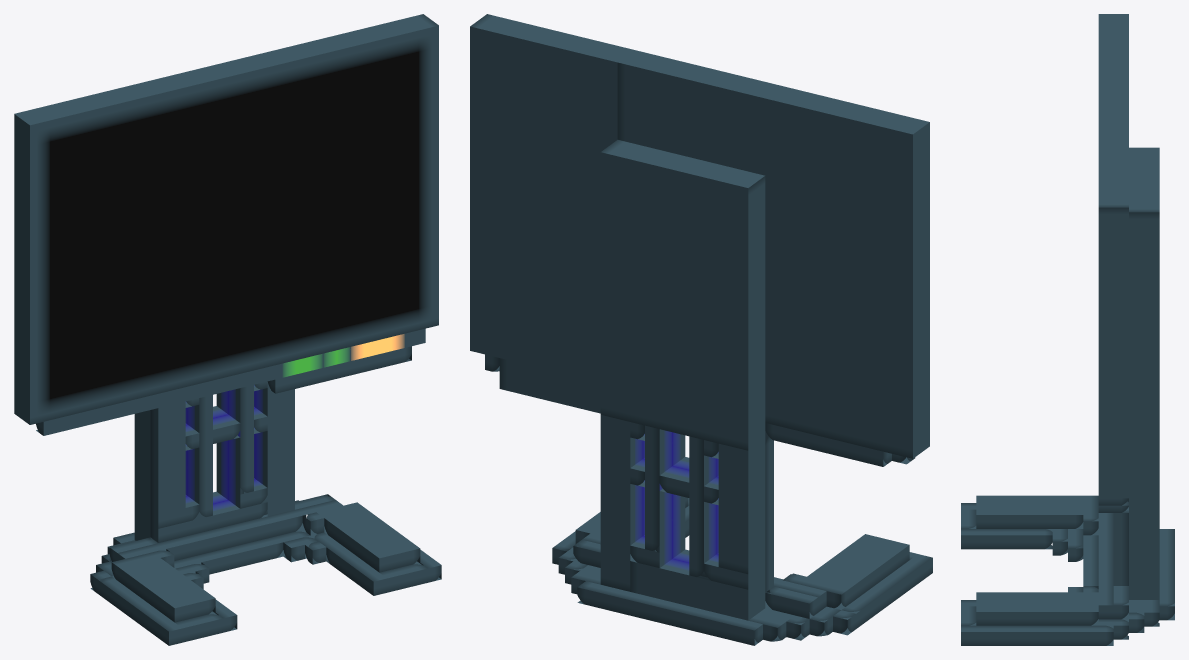
The model's file is MONITOR.dae.
The picture shows the model from 3 angles, left to right: view 1: azimuth 30°, elevation 25°; view 2: azimuth 150°, elevation 25°; view 3: azimuth 270°, elevation 25°; orthographic projection. The views are drawn at different scales.
Visible parts, largest first — view 1: Content; view 2: Content; view 3: Content.
Boxes of the visible parts, box(x1,y1,x2,y2) form: Content: box(14, 14, 441, 645); Content: box(470, 14, 932, 645); Content: box(961, 14, 1174, 645).
Size of the model in its own units: 30 by 34 by 14.
Materials: 1 (1 with a texture image).
